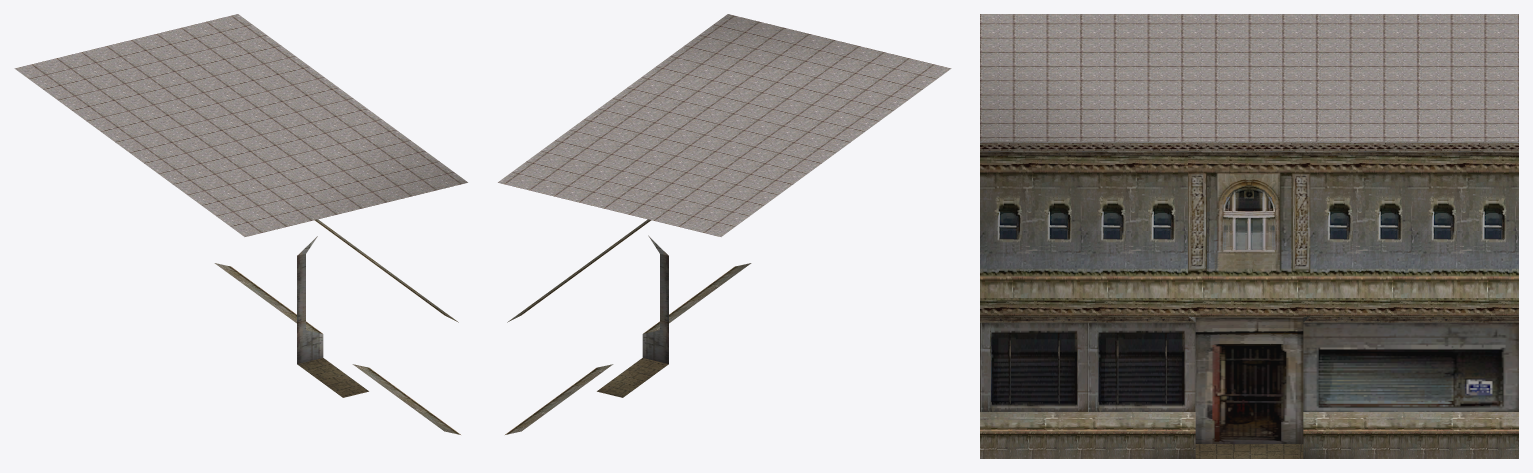
File: M2Zone1_MidShop.glb
The picture shows the model from 3 angles, left to right: view 1: azimuth 30°, elevation 25°; view 2: azimuth 150°, elevation 25°; view 3: azimuth 270°, elevation 25°; orthographic projection. The views are drawn at different scales.
Visible parts, largest first — view 1: M2ZONE1_MIDSHOP; view 2: M2ZONE1_MIDSHOP; view 3: M2ZONE1_MIDSHOP.
Boxes of the visible parts, x1,y1,x2,y2 form: M2ZONE1_MIDSHOP: (14, 14, 467, 434); M2ZONE1_MIDSHOP: (498, 14, 951, 434); M2ZONE1_MIDSHOP: (980, 14, 1518, 458).
Size of the model in its own units: 8.97 by 10.52 by 16.
Materials: 8 (8 with a texture image).
